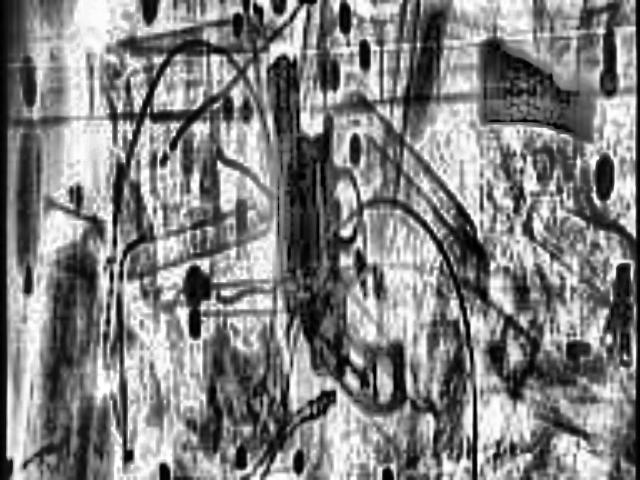Gun: (264, 50, 404, 412)
